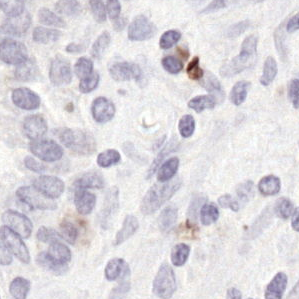Lymphocyte: (186, 57, 203, 79)
